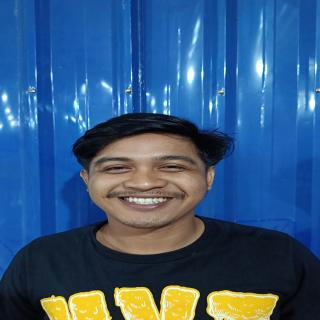Senang: (74, 125, 219, 232)
